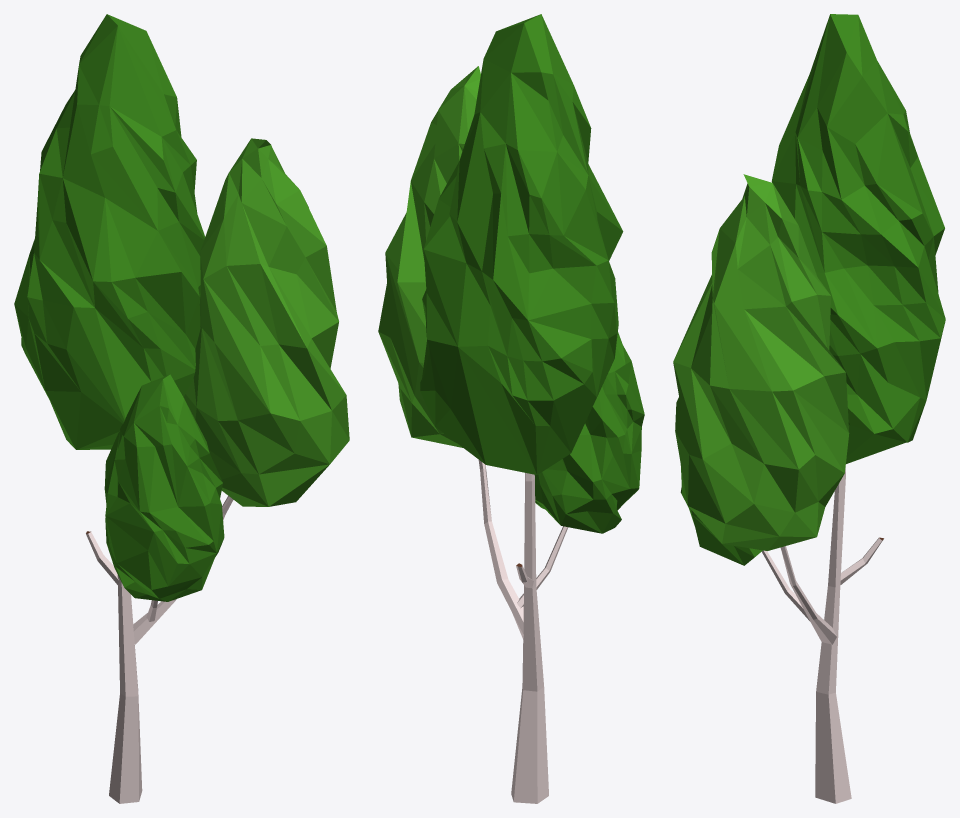
The model's file is BirchTree_004_1.FBX.
The picture shows the model from 3 angles, left to right: view 1: azimuth 30°, elevation 25°; view 2: azimuth 150°, elevation 25°; view 3: azimuth 270°, elevation 25°; orthographic projection.
Visible parts, largest first — view 1: GeoSphere011, GeoSphere012, GeoSphere010, Cylinder006, Cylinder007; view 2: GeoSphere011, GeoSphere012, GeoSphere010, Cylinder006, Cylinder007, Cylinder009; view 3: GeoSphere012, GeoSphere011, Cylinder006, GeoSphere010, Cylinder007, Cylinder009.
Part boxes in pixels (x1,y1,x2,y2): GeoSphere011: [14, 14, 204, 449]; GeoSphere012: [183, 138, 349, 506]; GeoSphere010: [104, 374, 224, 601]; Cylinder006: [109, 575, 142, 803]; Cylinder007: [133, 496, 233, 644]; GeoSphere011: [420, 14, 623, 474]; GeoSphere012: [378, 66, 480, 447]; GeoSphere010: [534, 332, 644, 533]; Cylinder006: [511, 473, 548, 803]; Cylinder007: [478, 460, 523, 639]; Cylinder009: [517, 526, 568, 608]; GeoSphere012: [673, 174, 849, 550]; GeoSphere011: [771, 14, 945, 463]; Cylinder006: [815, 468, 851, 803]; GeoSphere010: [680, 464, 762, 565]; Cylinder007: [780, 546, 836, 644]; Cylinder009: [762, 550, 809, 620].
Bounding box in the file's own units: 26.11 × 73.33 × 23.31.
